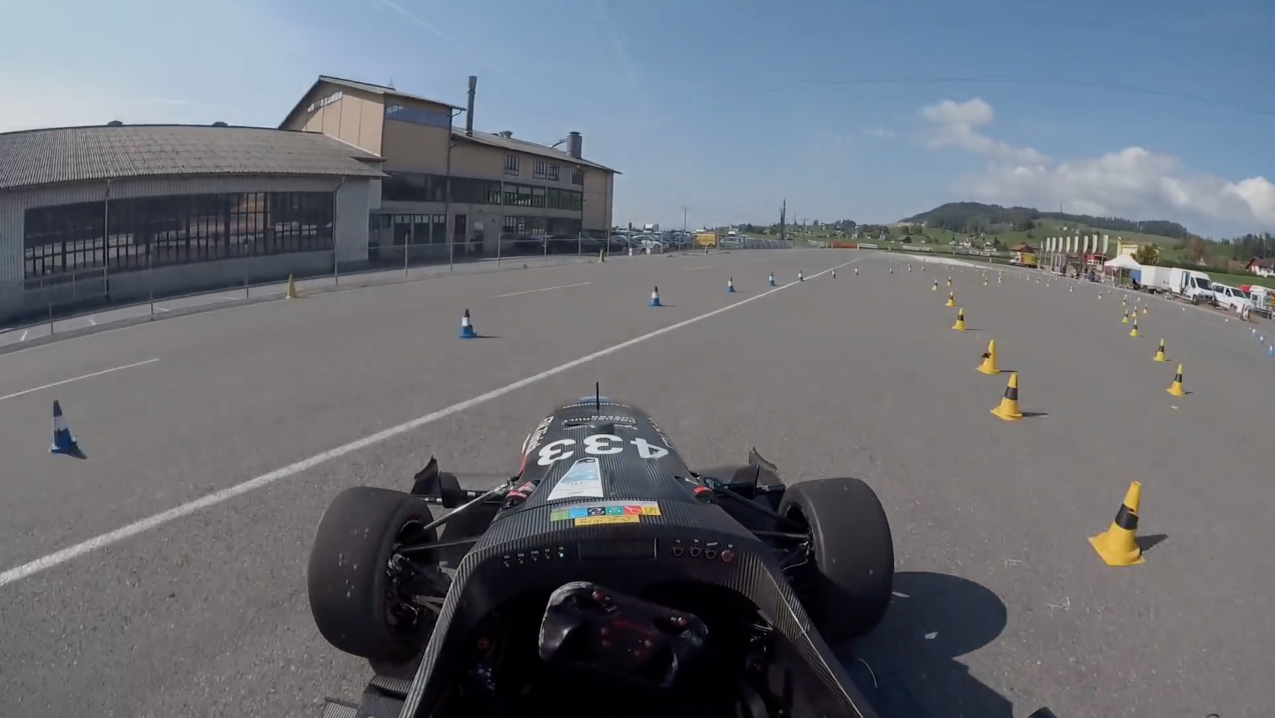lcone: (44, 397, 86, 462), (454, 305, 482, 341), (647, 283, 665, 310)
rcone: (1080, 473, 1154, 570), (987, 368, 1033, 423), (974, 337, 1004, 379), (1165, 360, 1191, 399), (950, 306, 972, 333)
